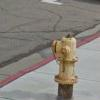Hydrant: (40, 26, 95, 100)
